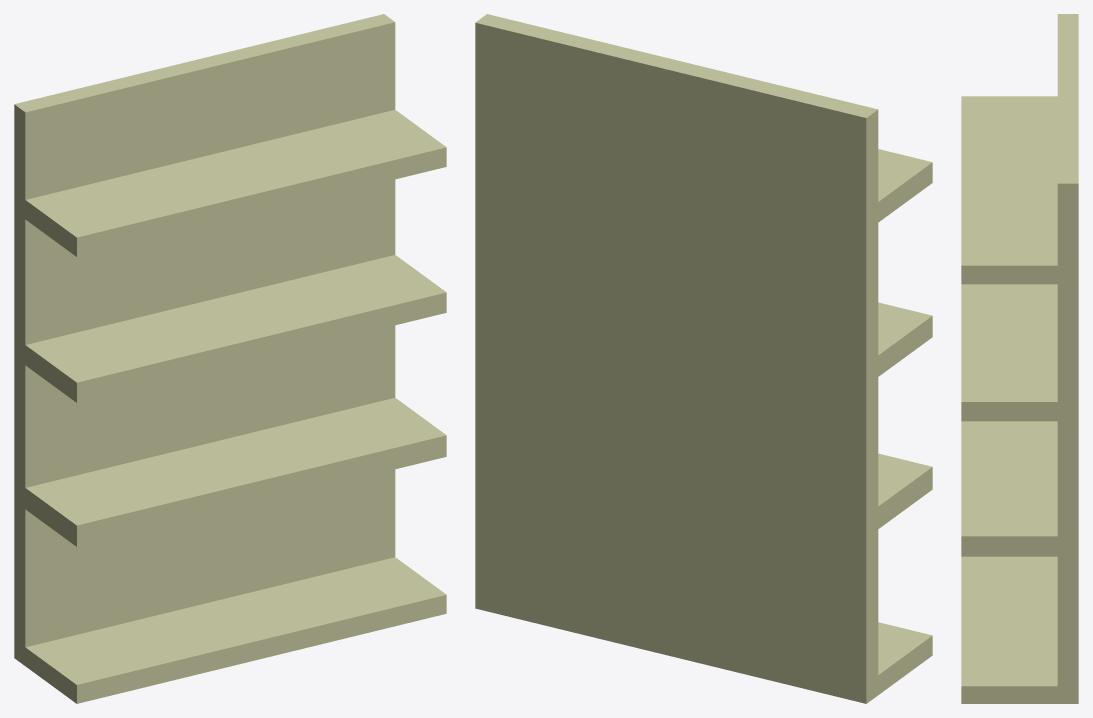
File: Shelf_v2.fbx
The picture shows the model from 3 angles, left to right: view 1: azimuth 30°, elevation 25°; view 2: azimuth 150°, elevation 25°; view 3: azimuth 270°, elevation 25°; orthographic projection. The views are drawn at different scales.
Visible parts, largest first — view 1: Cube; view 2: Cube; view 3: Cube.
Part boxes in pixels (x1=…): Cube: x1=14, y1=14, x2=446, y2=703; Cube: x1=475, y1=14, x2=932, y2=703; Cube: x1=961, y1=14, x2=1078, y2=703.
Bounding box in the file's own units: 377 × 539 × 110.
